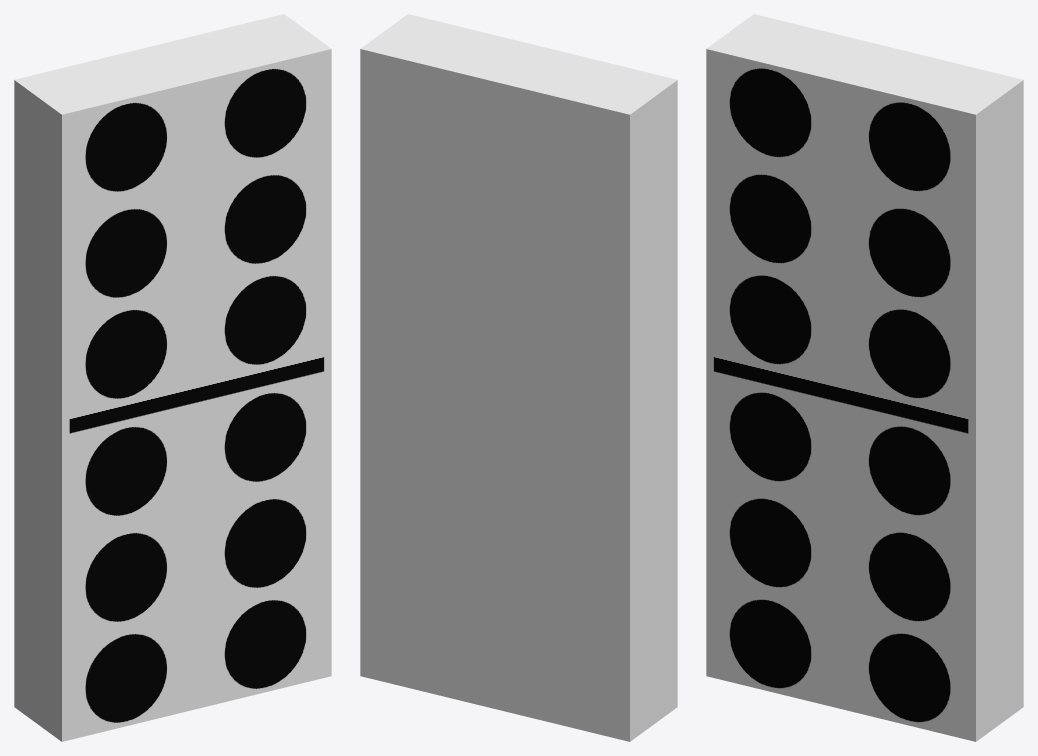
File: Domino.fbx
The picture shows the model from 3 angles, left to right: view 1: azimuth 30°, elevation 25°; view 2: azimuth 150°, elevation 25°; view 3: azimuth 330°, elevation 25°; orthographic projection.
Visible parts, largest first — view 1: Cube; view 2: Cube; view 3: Cube.
Part boxes in pixels (x1,y1,x2,y2): Cube: [14, 14, 331, 741]; Cube: [360, 14, 677, 741]; Cube: [706, 14, 1023, 741].
Size of the model in its own units: 200 by 444 by 61.3.
